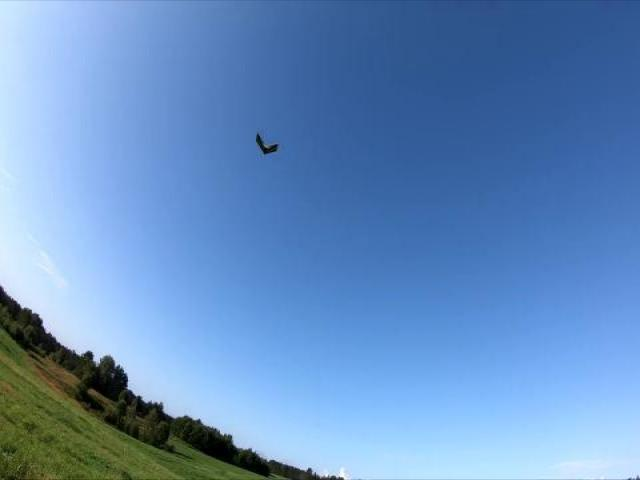flying wing: (254, 131, 278, 160)
